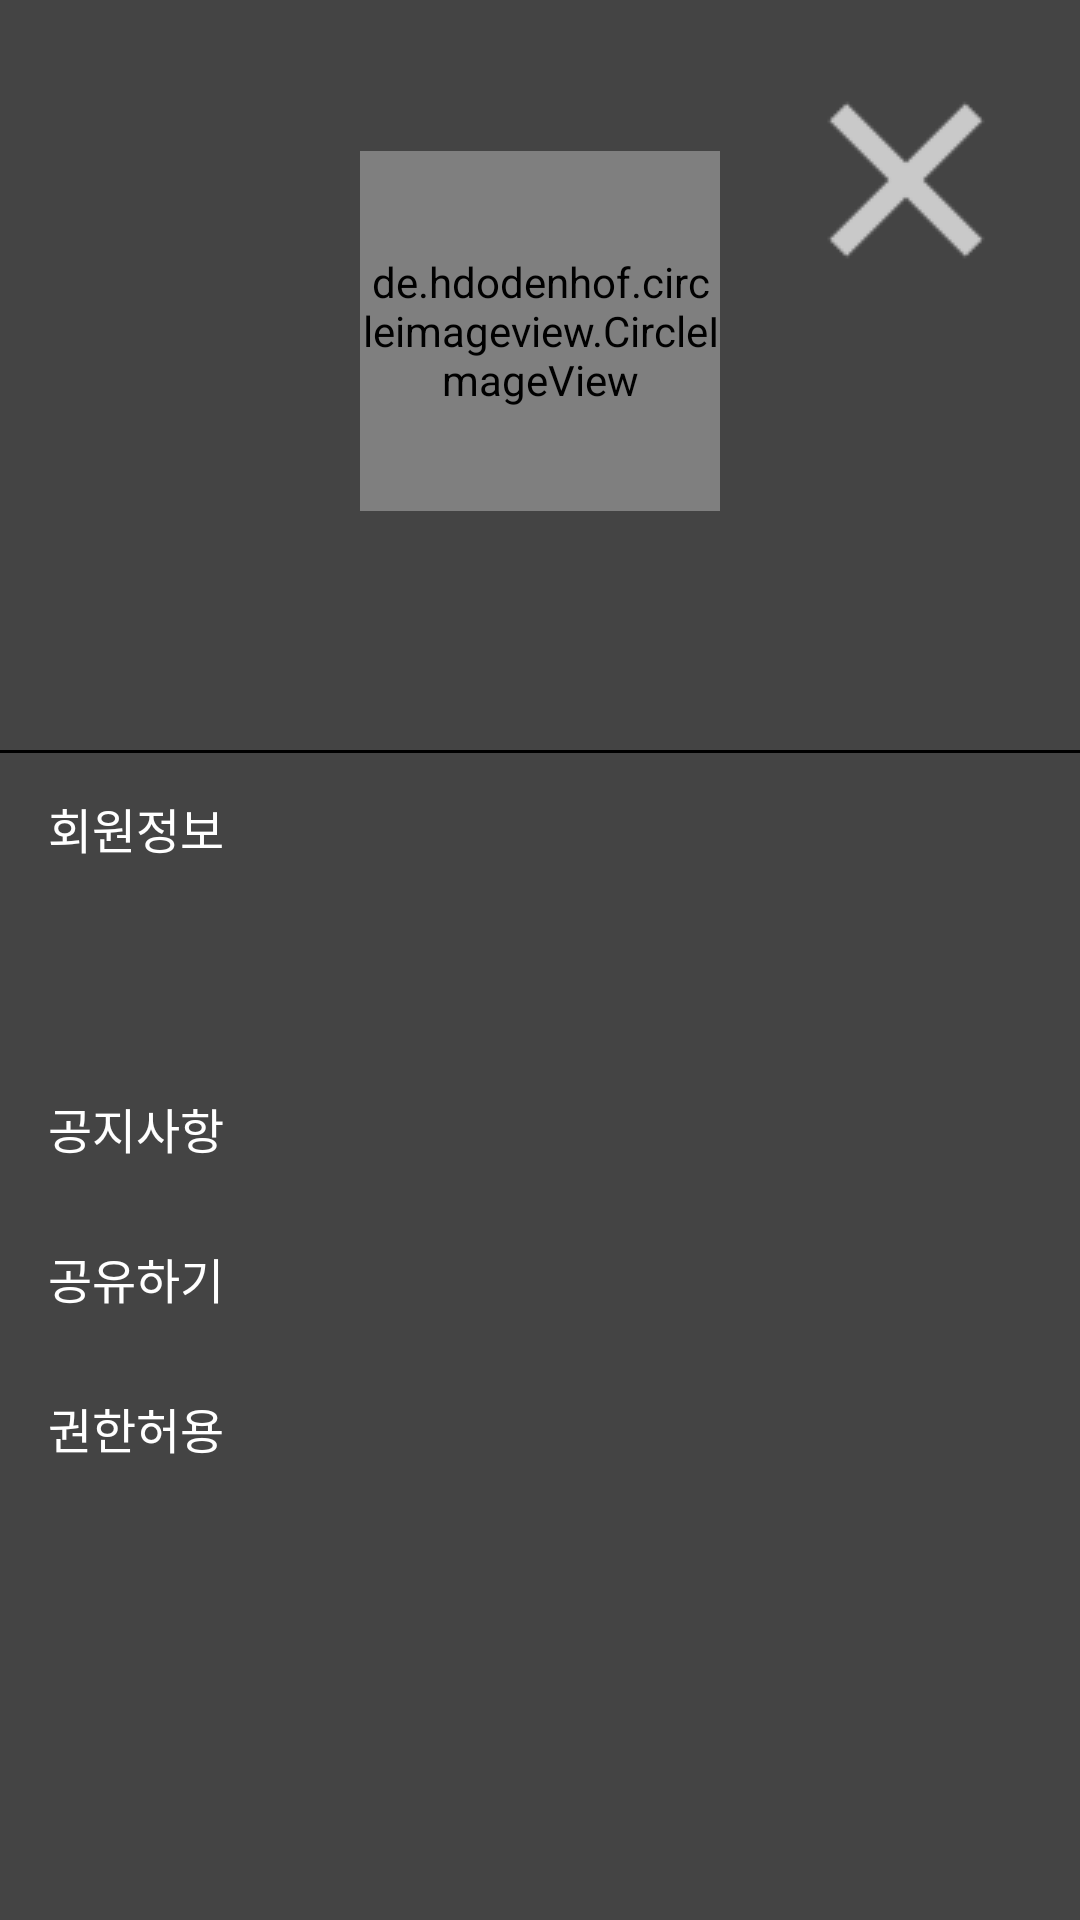

Where icons sit on this 1080×1920 app screen, as (x1, y1, x2, y2):
close: (830, 104, 982, 256)
